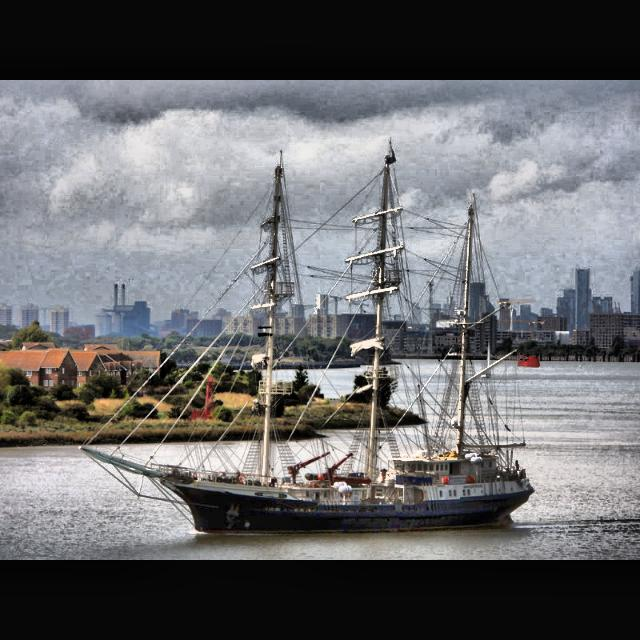sailing_vessel: (78, 139, 536, 537)
